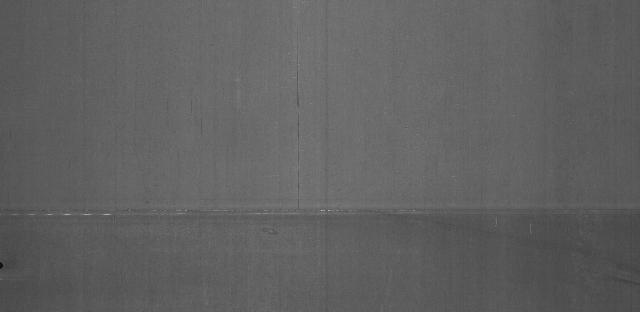welding_line: (4, 200, 640, 224)
